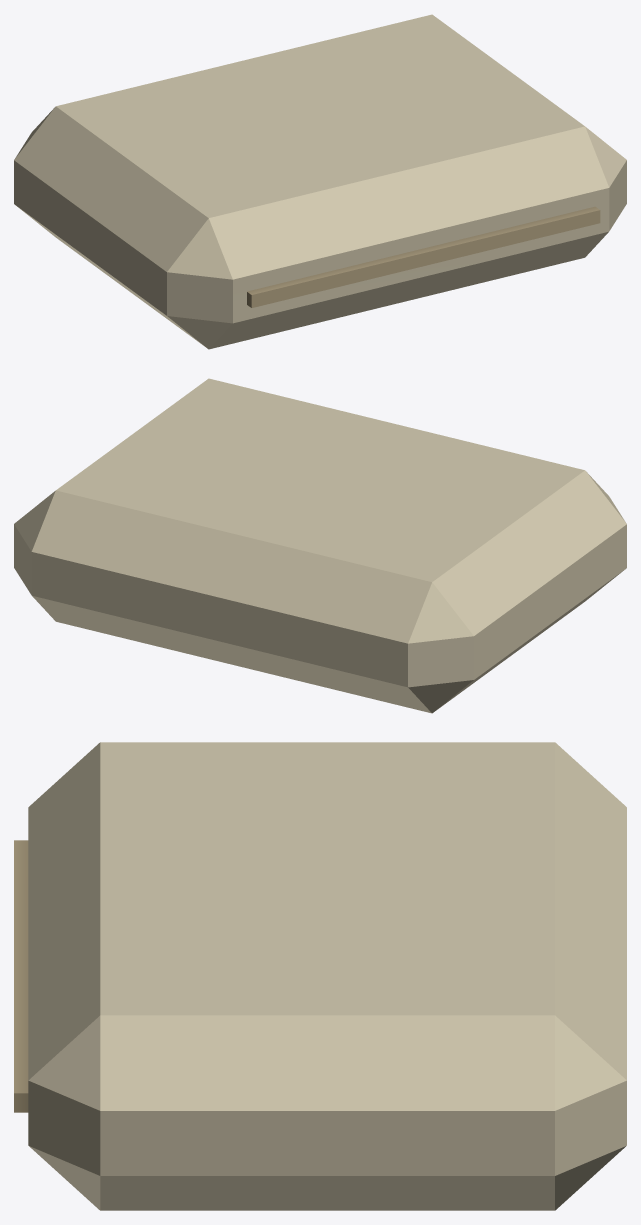
Rendered from boat_cushion.glb.
The picture shows the model from 3 angles, top to bottom: view 1: azimuth 30°, elevation 25°; view 2: azimuth 150°, elevation 25°; view 3: azimuth 270°, elevation 25°; orthographic projection. The views are drawn at different scales.
Visible parts, largest first — view 1: boat_cushion; view 2: boat_cushion; view 3: boat_cushion.
Boxes of the visible parts, x1,y1,x2,y2 form: boat_cushion: (14, 14, 626, 349); boat_cushion: (14, 378, 626, 713); boat_cushion: (14, 742, 626, 1210).
Size of the model in its own units: 0.66 by 0.18 by 0.512.
